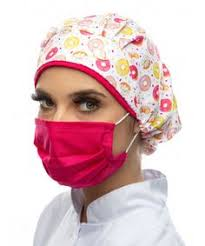with_mask_and_cap: (33, 17, 149, 189)
